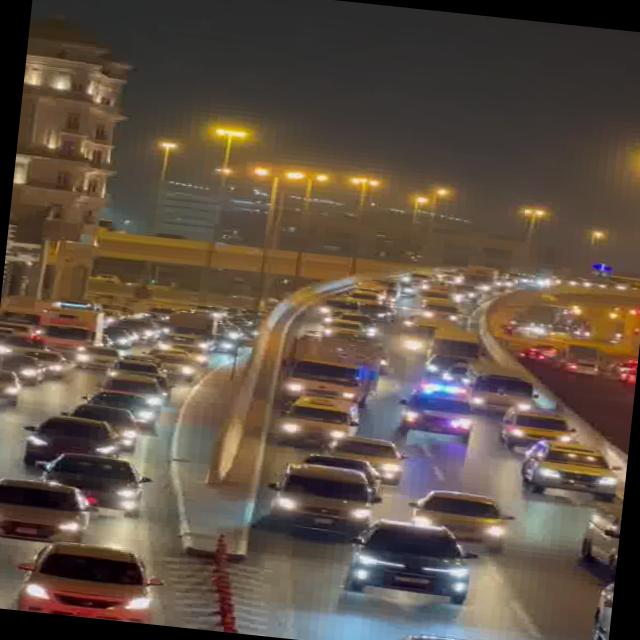ambulance: (392, 375, 478, 442)
